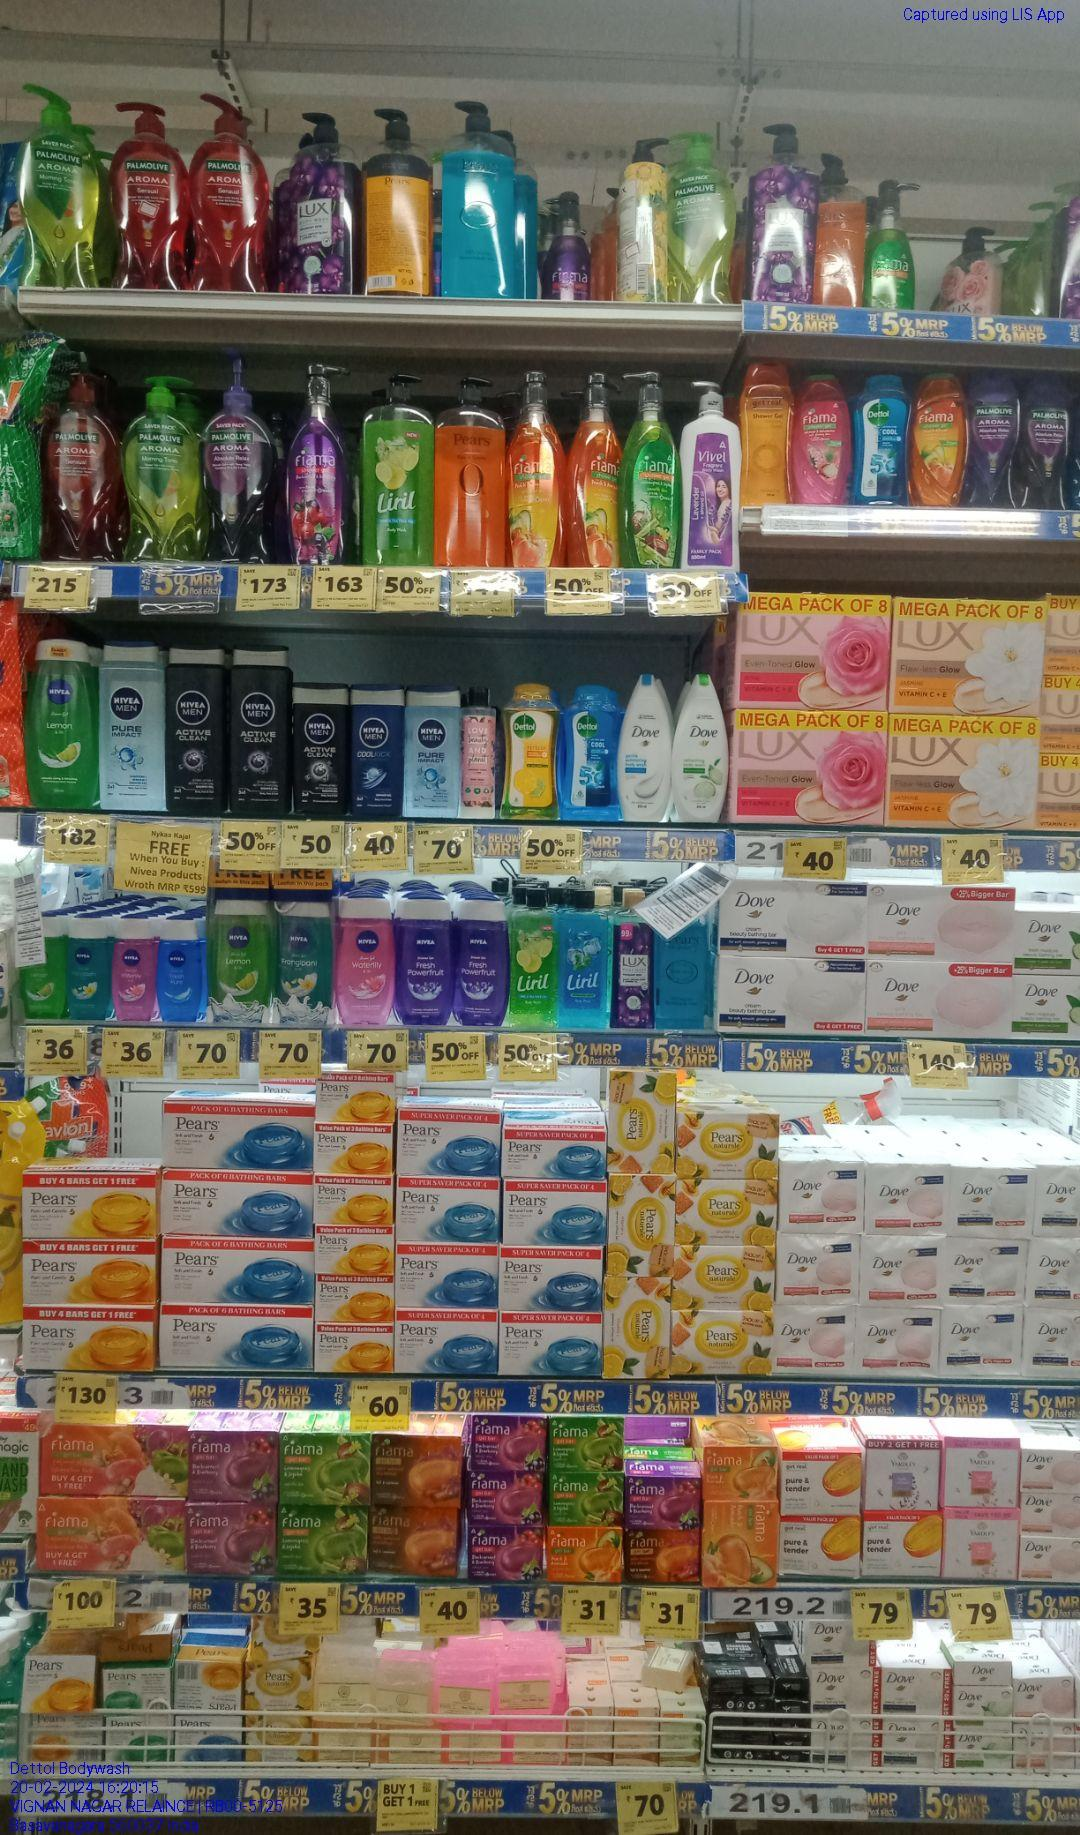Dettol_Bodywash_Cool: (563, 677, 617, 824), (854, 368, 910, 504)
Dettol_Bodywash_Refresh: (498, 689, 559, 822)
Dove_Gentle_Exfoliating_Body_Wash_250ML: (624, 677, 670, 826)
Dove_Refreshing_Body_Wash_250ML: (675, 673, 728, 824)
Fiama_Shower_Gel_Patchouli_and_Macadamia_250ML: (796, 368, 849, 501)
Fiama_Shower_Gel_Peach_and_Avocado_250ML: (914, 375, 958, 506)
Get_Real_Shower_Gel_Moisturising_Glycerin_300ML: (741, 357, 789, 505)
Liril_Cooling_Mint_Body_Wash_250ML: (559, 889, 604, 1027)
Liril_Lime_and_Tea_Tree_Oil_Body_Wash_250ML: (513, 883, 557, 1027)
Lux_Black_Orchid_Scent_and_Juniper_Oil_Body_Wash_245ML: (611, 918, 654, 1029)
Nivea_Shower_Gel_Frangipani_and_Oil_250ML: (278, 894, 333, 1028)
Nivea_Shower_Gel_Fresh_Powerfruit_250ML: (396, 896, 450, 1027), (454, 900, 505, 1028)
Nivea_Shower_Gel_Lemon_and_Oil_250ML: (23, 643, 100, 808), (212, 897, 273, 1025)
Nivea_Shower_Gel_Waterlily_and_Oil_250ML: (338, 901, 391, 1025)
Palmolive_Aroma_Relax_250ML: (966, 368, 1014, 509), (1021, 373, 1067, 510)
Pears_Pure_Glycerin_and_Mint_Extracts_Body_Wash_250ML: (657, 921, 706, 1029)
